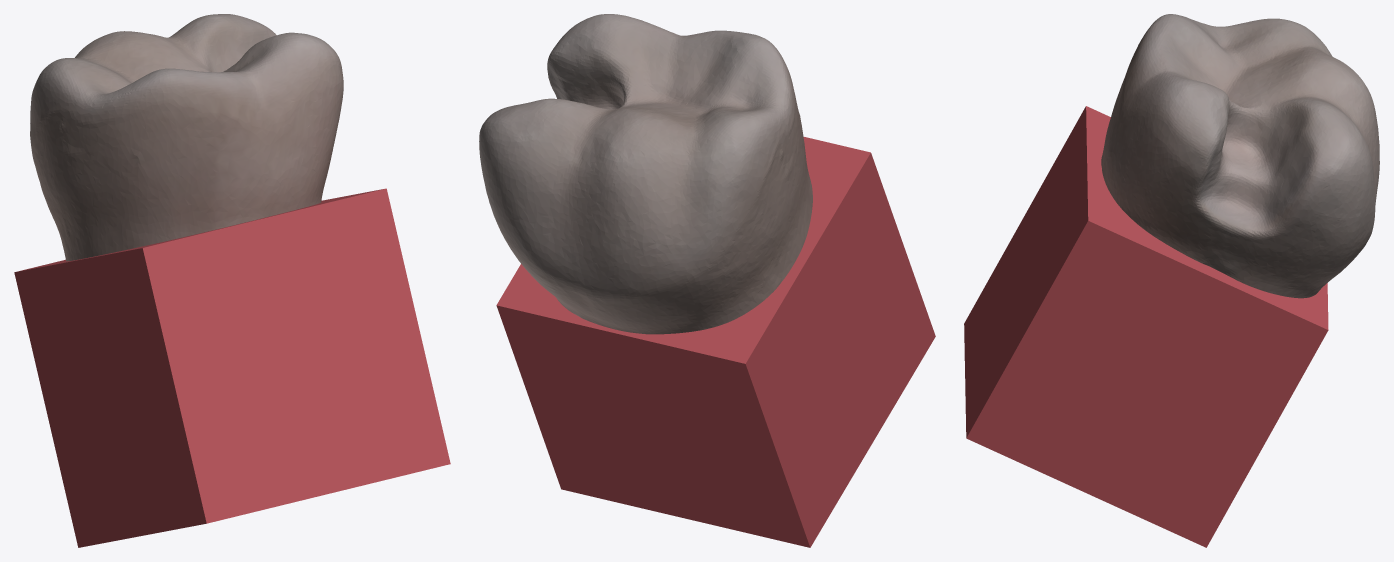
The model's file is PC clase II.glb.
3 views of the same model, side by side, from view 1: azimuth 30°, elevation 25°; view 2: azimuth 150°, elevation 25°; view 3: azimuth 270°, elevation 25° (orthographic). The views are drawn at different scales.
Parts seen in each view (by area): view 1: CLASE II - corte - combinado; view 2: CLASE II - corte - combinado; view 3: CLASE II - corte - combinado.
Part boxes in pixels (box(x1,y1,x2,y2)): CLASE II - corte - combinado: box(14, 14, 450, 547); CLASE II - corte - combinado: box(479, 14, 935, 547); CLASE II - corte - combinado: box(964, 14, 1379, 547).
Bounding box in the file's own units: 11.67 × 19.93 × 16.66.
